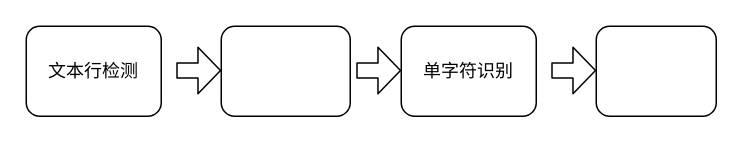
This 743x143 diagram has some shape labels left out. Here are the shapes that lost their labels. From the top down, the box of each, then its label:
(220, 25, 350, 116): 单字符分割
(595, 25, 716, 116): 后处理
